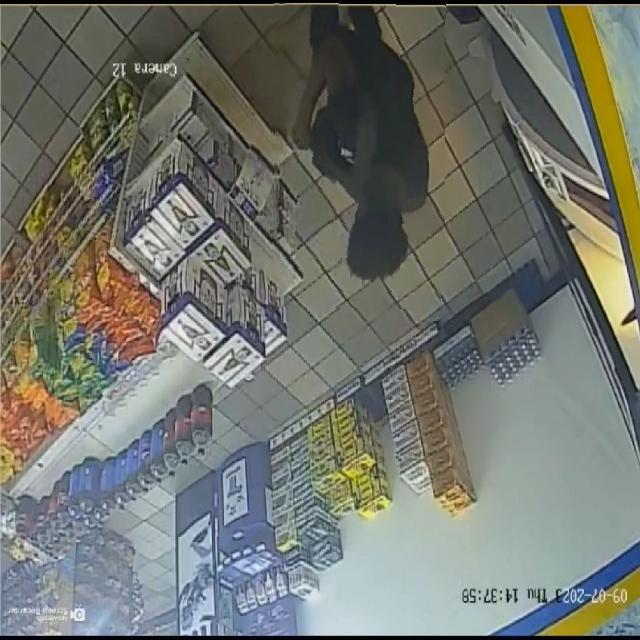Normal: (270, 0, 445, 309)
